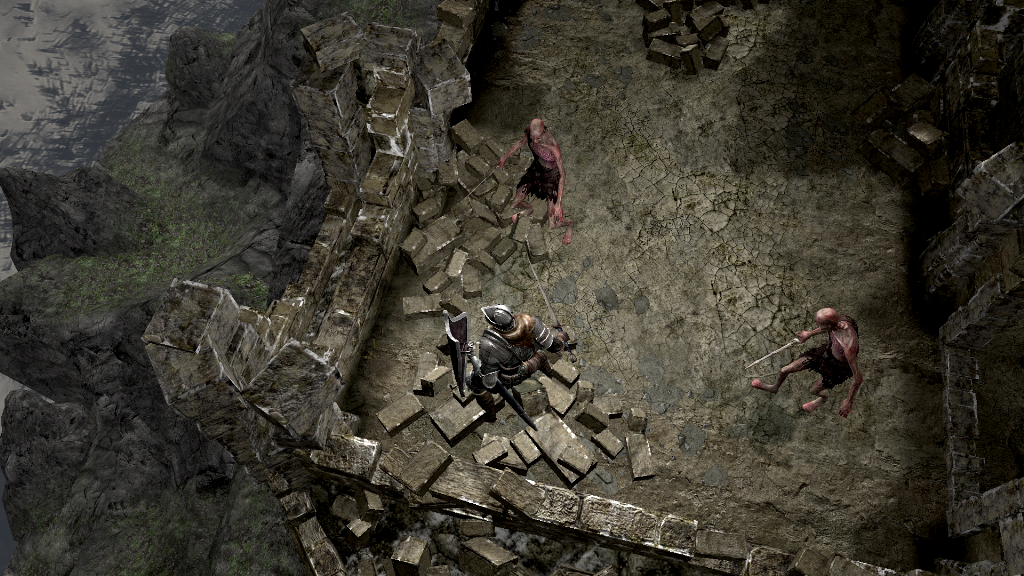hollow: (751, 304, 864, 419), (501, 117, 576, 246)
player: (443, 264, 579, 423)
